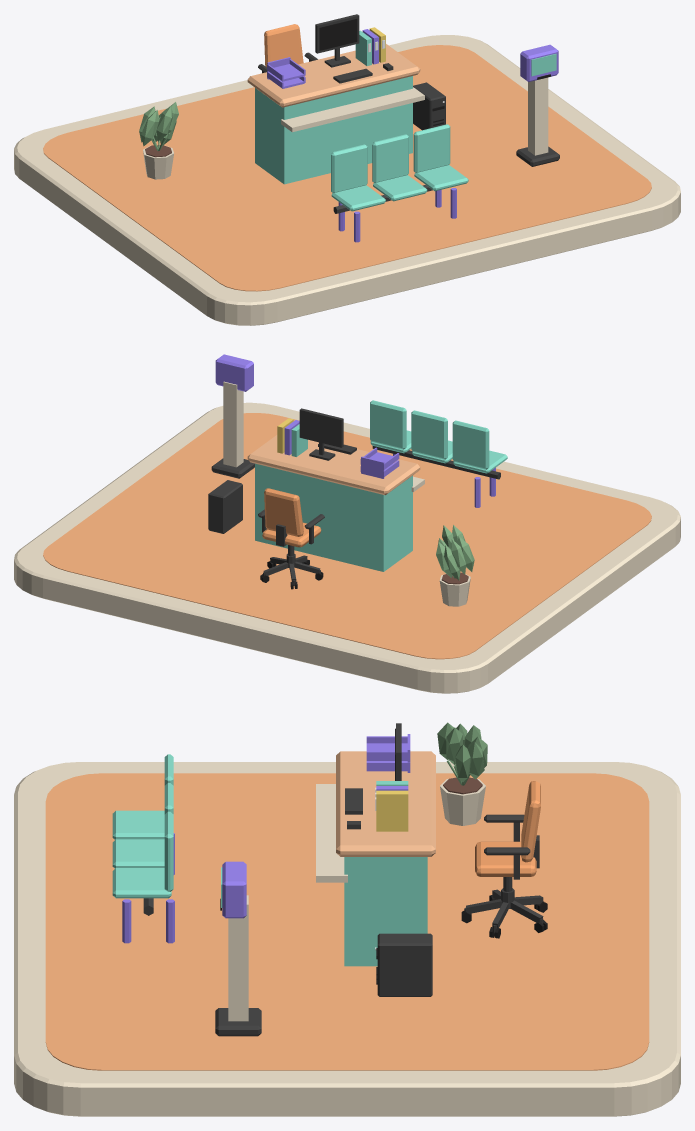
3 views of the same model, one above another, from view 1: azimuth 30°, elevation 25°; view 2: azimuth 150°, elevation 25°; view 3: azimuth 270°, elevation 25° (orthographic). The views are drawn at different scales.
Parts seen in each view (by area): view 1: COM-02 Floor Surface, COM-01 Rounded Base Direct, Counter body, Countertop, Pot, Visitor shelf, Frame, Back.002, Pedestal, Back.001, Back, COM-04_Chair_blender_direct (+6 smaller); view 2: COM-02 Floor Surface, COM-01 Rounded Base Direct, Counter body, Countertop, COM-04_Chair_blender_direct, Pot, Pedestal, Frame, Back, Tower, Back.001, Back.002 (+3 smaller); view 3: COM-02 Floor Surface, COM-01 Rounded Base Direct, Counter body, Countertop, COM-04_Chair_blender_direct, Pot, Tower, Pedestal, Visitor shelf, Seat.002, Seat, Seat.001 (+4 smaller).
Part boxes in pixels (bbox=[...]): COM-02 Floor Surface: bbox=[43, 45, 651, 291]; COM-01 Rounded Base Direct: bbox=[14, 35, 680, 325]; Counter body: bbox=[255, 76, 412, 184]; Countertop: bbox=[247, 44, 420, 107]; Pot: bbox=[139, 102, 178, 179]; Visitor shelf: bbox=[281, 87, 424, 132]; Frame: bbox=[315, 14, 359, 67]; Back.002: bbox=[413, 124, 450, 172]; Pedestal: bbox=[528, 77, 548, 155]; Back.001: bbox=[372, 134, 408, 182]; Back: bbox=[331, 144, 367, 192]; COM-04_Chair_blender_direct: bbox=[258, 24, 317, 73]; COM-02 Floor Surface: bbox=[43, 413, 651, 659]; COM-01 Rounded Base Direct: bbox=[14, 402, 680, 693]; Counter body: bbox=[255, 463, 412, 571]; Countertop: bbox=[247, 435, 420, 495]; COM-04_Chair_blender_direct: bbox=[258, 488, 324, 589]; Pot: bbox=[436, 525, 474, 606]; Pedestal: bbox=[223, 381, 243, 467]; Frame: bbox=[299, 408, 343, 460]; Back: bbox=[452, 420, 489, 469]; Tower: bbox=[208, 480, 242, 533]; Back.001: bbox=[411, 410, 447, 459]; Back.002: bbox=[370, 400, 406, 449]; COM-02 Floor Surface: bbox=[45, 773, 649, 1070]; COM-01 Rounded Base Direct: bbox=[14, 762, 680, 1116]; Counter body: bbox=[344, 857, 427, 966]; Countertop: bbox=[336, 751, 435, 856]; COM-04_Chair_blender_direct: bbox=[461, 781, 547, 938]; Pot: bbox=[437, 722, 487, 825]; Tower: bbox=[377, 933, 432, 996]; Pedestal: bbox=[228, 895, 248, 1021]; Visitor shelf: bbox=[316, 784, 347, 882]; Seat.002: bbox=[112, 868, 171, 898]; Seat: bbox=[112, 810, 164, 839]; Seat.001: bbox=[112, 839, 164, 868].
Bounding box in the file's own units: 6 × 1.92 × 5.2.
Materials: 1 (1 with a texture image).
